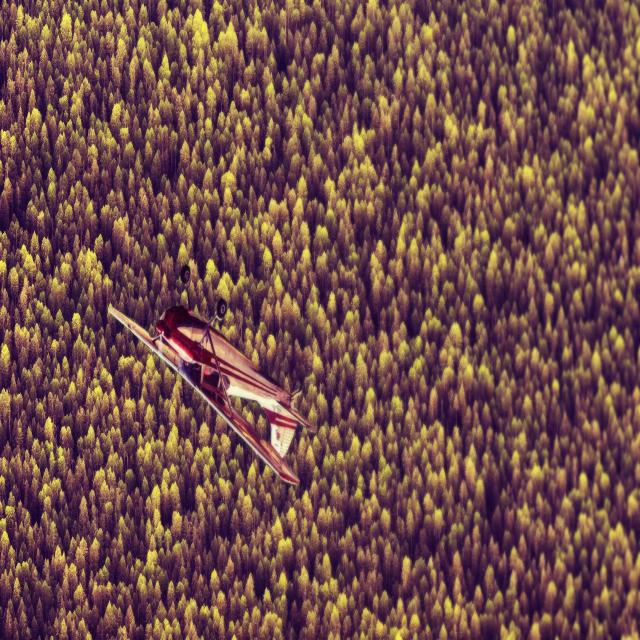airplane: (107, 298, 317, 487)
